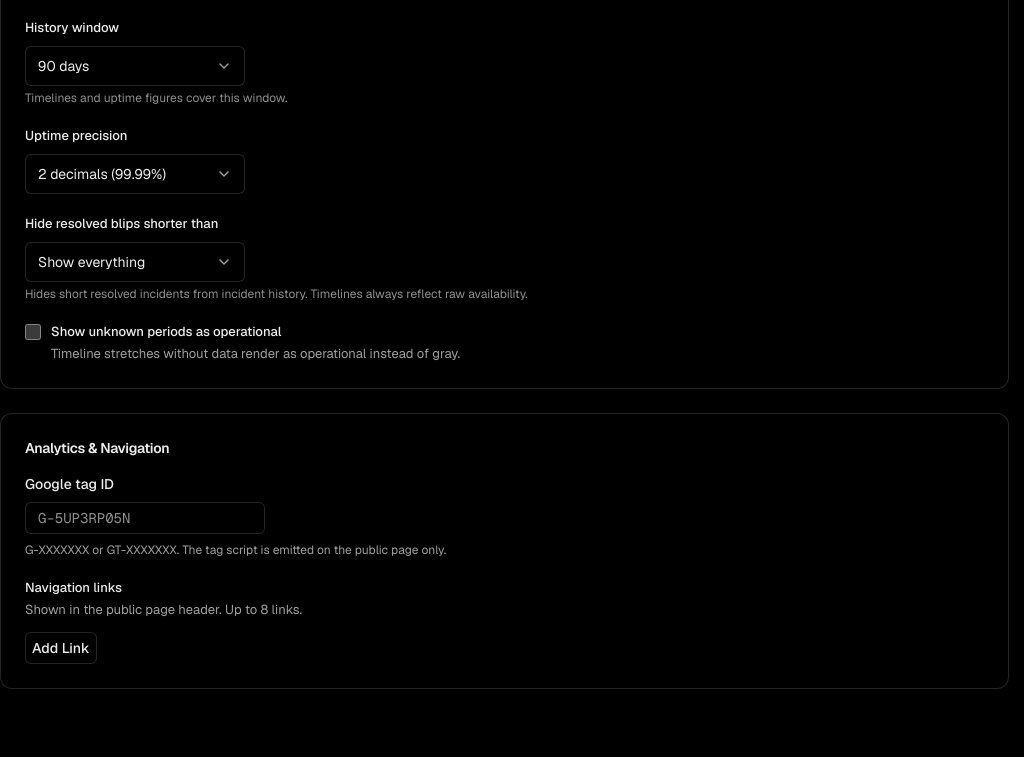
Test: StatusPageSettings navigation links › surfaces link validation only on a save attempt and blocks the PUT
(page scrolled)
Click the button "Add Link": (61, 648) [25,632,97,664]
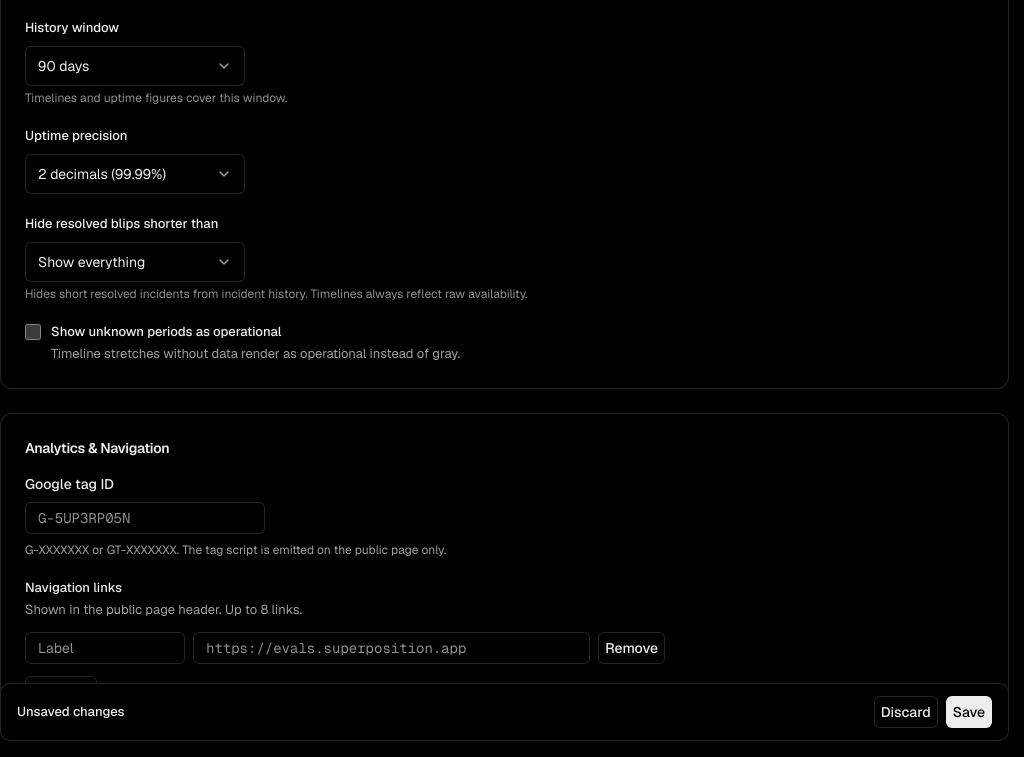
In the field named "Link 1 label": (105, 648) [25,632,185,664], type "Docs"
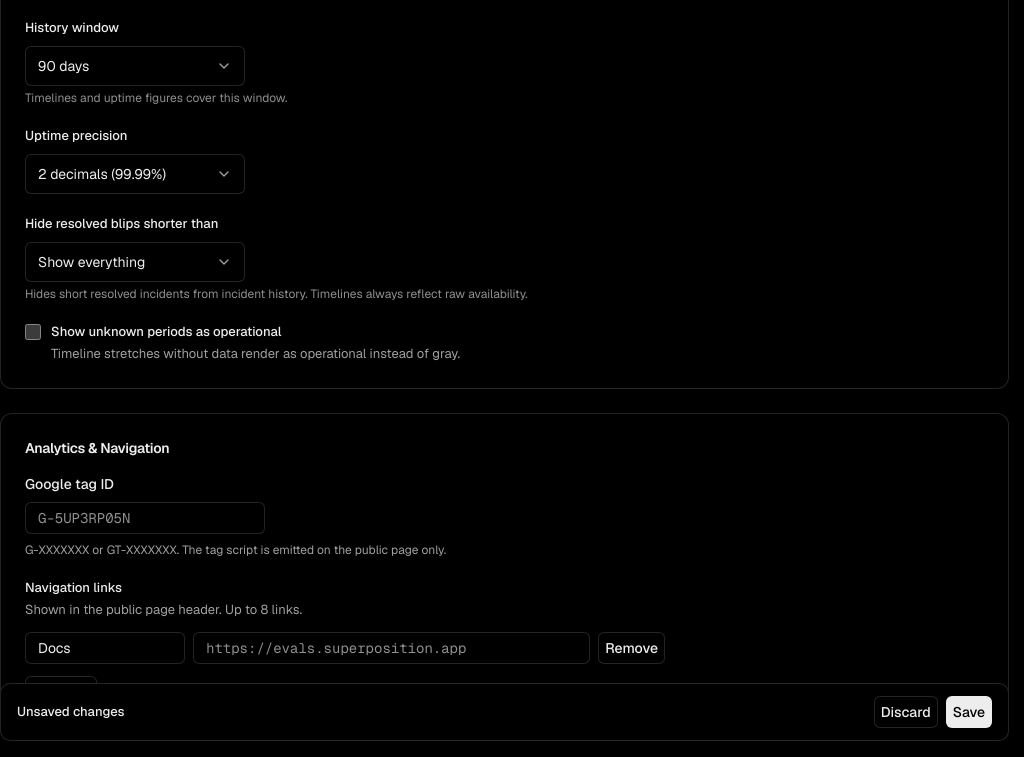
Click the button "Save": (969, 712) [946,696,992,728]
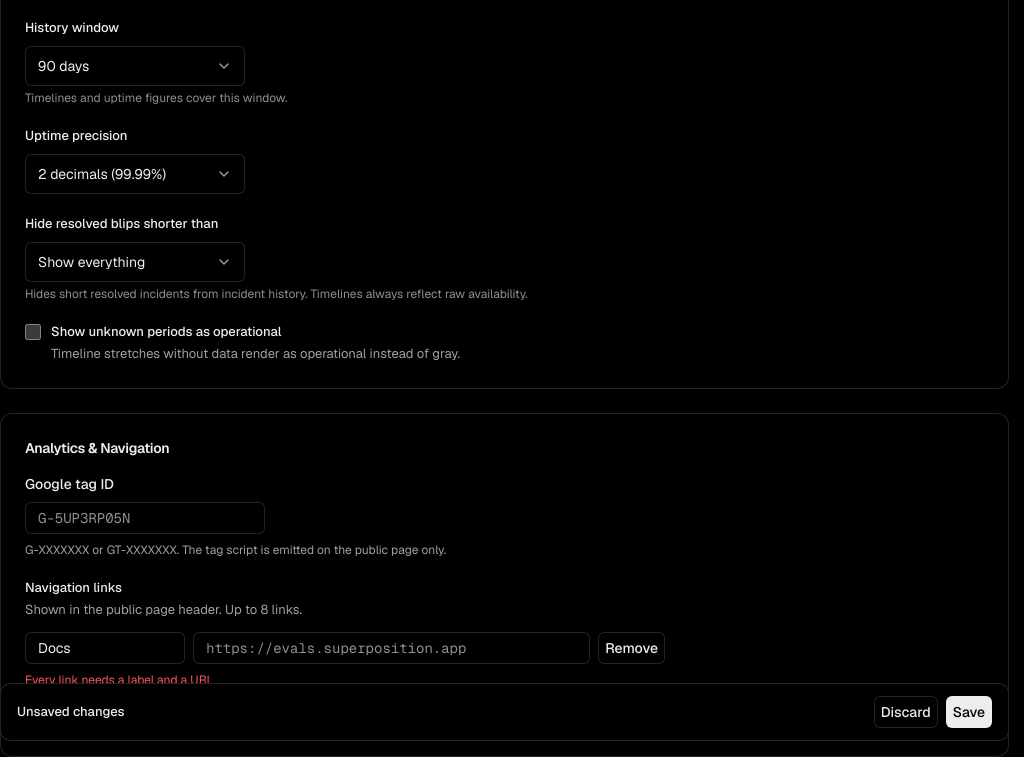
Check: the text "Every link needs a label and a URL" is shown, box [25,672,214,688]
Note: Editing the links clears the save-attempt error.
In the field named "Link 1 URL": (392, 648) [193,632,590,664], type "https://acme.dev/docs"
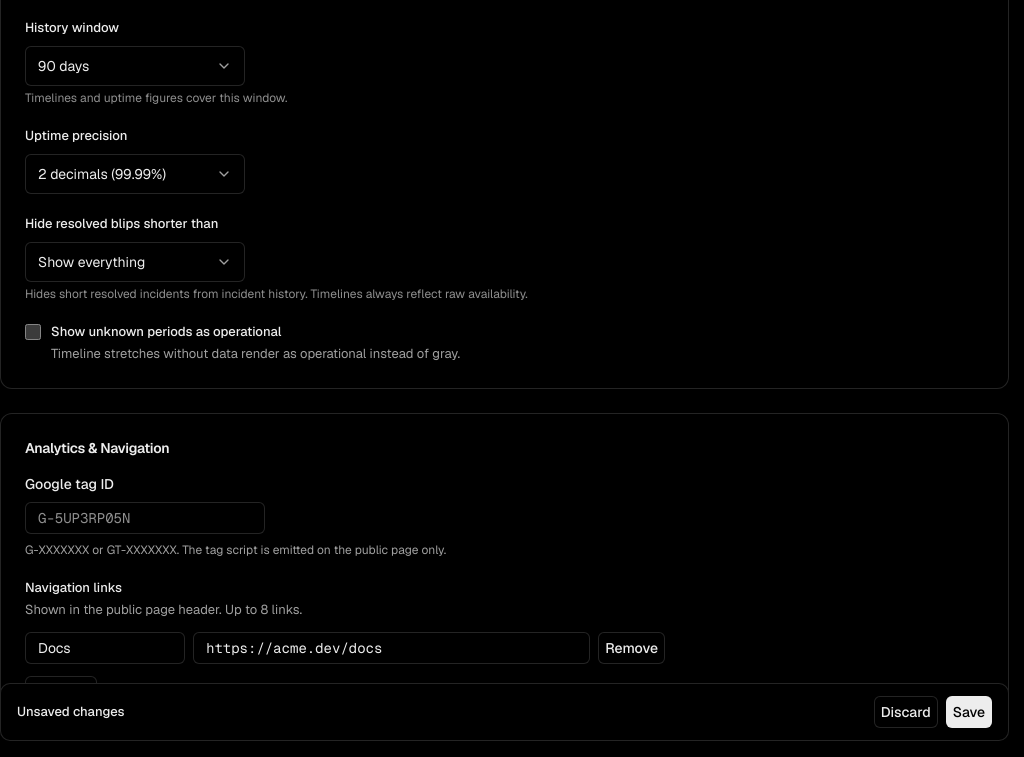
Check: the text "Every link needs a label and a URL" is gone
